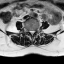CCS_normal: (31, 28, 32, 38)
LFS_stenosis: (34, 28, 36, 34)
LLS_normal: (32, 28, 34, 34)
RFS_stenosis: (27, 27, 29, 35)
RLS_normal: (29, 28, 31, 35)
